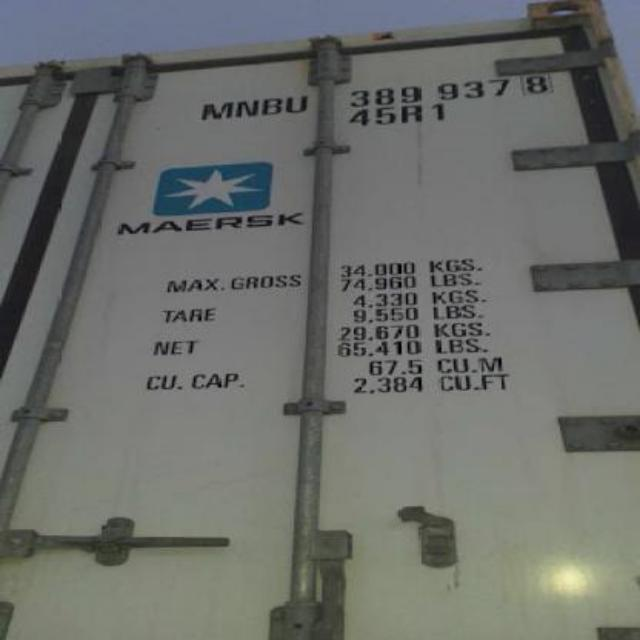3: (460, 76, 486, 105), (342, 82, 370, 108)
7: (484, 75, 510, 102)
8: (522, 73, 552, 97), (374, 80, 398, 108)
9: (428, 76, 460, 102), (398, 80, 419, 106)
B: (260, 92, 282, 121)
M: (195, 94, 231, 122)
N: (232, 95, 260, 121)
U: (284, 90, 312, 120)
